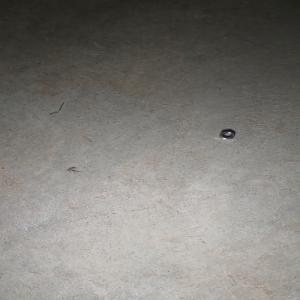Nut: (218, 129, 235, 140)
